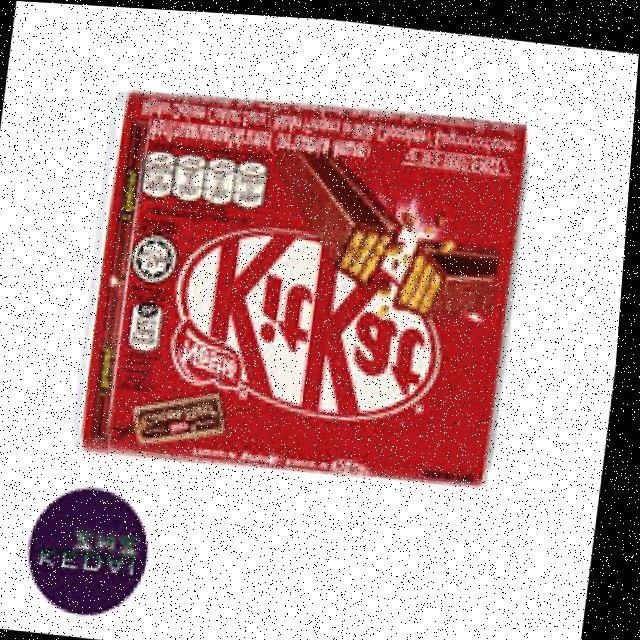kitkat_chocolate: (111, 77, 522, 503)
